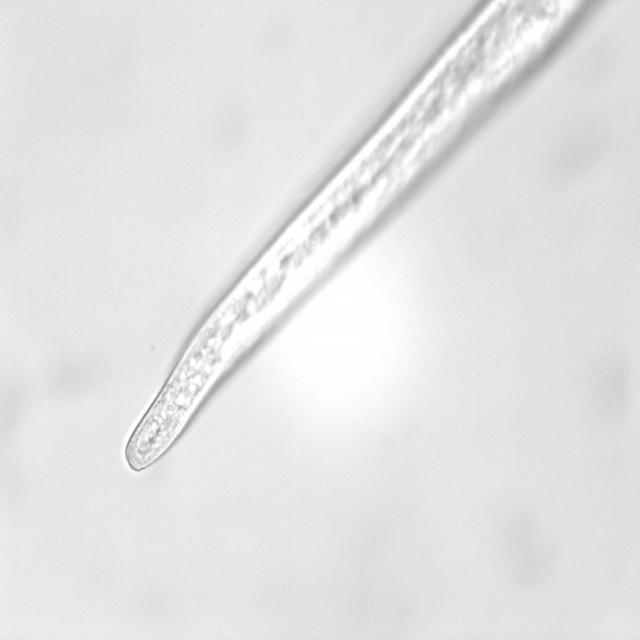Pratylenchus: (112, 200, 327, 493)
